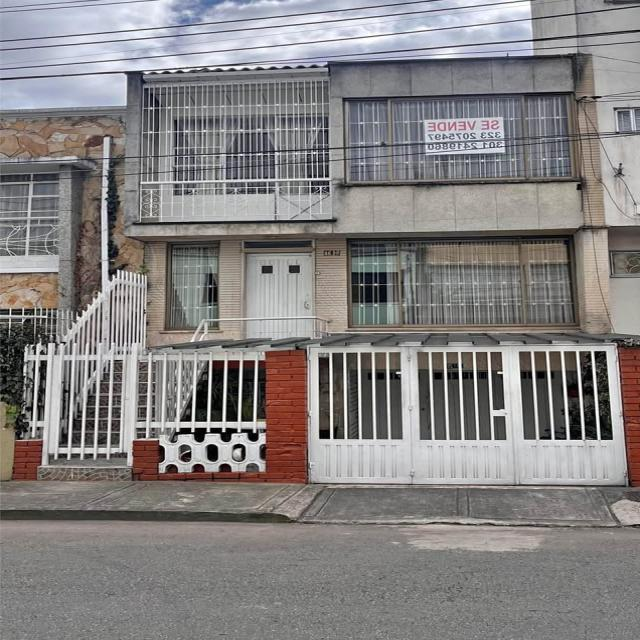Fachada: (15, 56, 640, 485), (1, 107, 133, 317)
